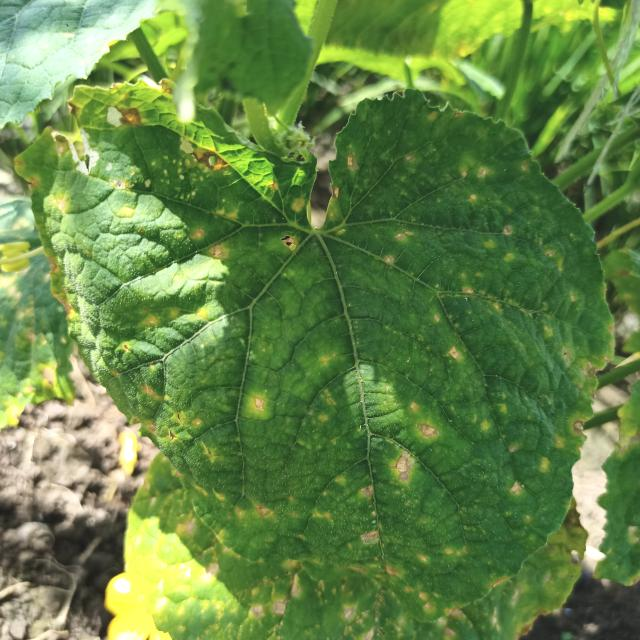disease_cucumber: (53, 111, 586, 613)
